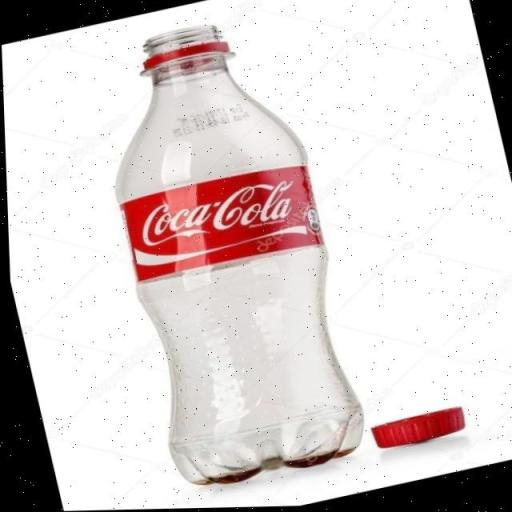plastic: (59, 0, 378, 506)
